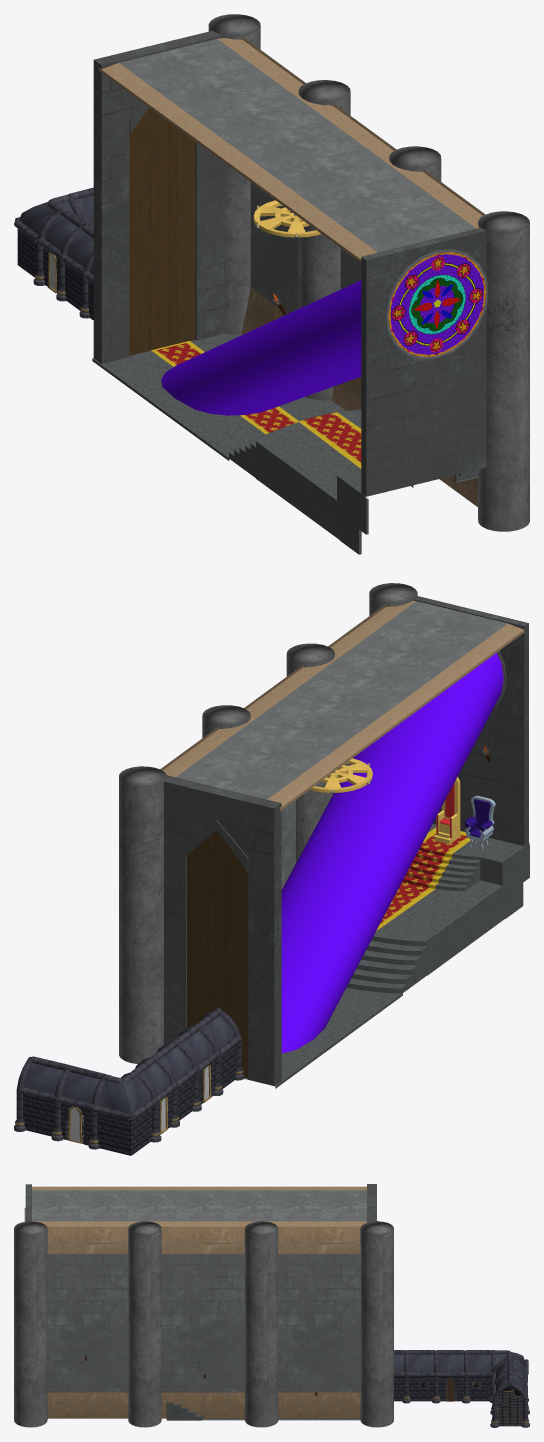
Rendered from castle_escenario.obj.
The picture shows the model from 3 angles, top to bottom: view 1: azimuth 30°, elevation 25°; view 2: azimuth 150°, elevation 25°; view 3: azimuth 270°, elevation 25°; orthographic projection. The views are drawn at different scales.
Visible parts, largest first — view 1: Door_Door_Texture_0_Malla, Stained_Window_Wall_Stained_Window_Wall_Texture_0_Malla, Ray_Ray_Texture_0_Malla, Piller_4_Piller_Texture_0_Malla, Stained_Window_Stained_Window_Texture_0_Malla, corridor_columns_Malla, Wall_2_Wall_Texture_0_Malla, Roof_2_Roof_Texture_0_Malla, Roof_4_Roof_Texture_0_Malla, Piller_1_Piller_Texture_0_Malla, Roof_6_Roof_Texture_0_Malla, Roof_5_Roof_Texture_0_Malla (+19 smaller); view 2: Ray_Ray_Texture_0_Malla, Door_Door_Texture_0_Malla, Piller_1_Piller_Texture_0_Malla, corridor_columns_Malla, Stained_Window_Wall_Stained_Window_Wall_Texture_0_Malla, Roof_4_Roof_Texture_0_Malla, Roof_2_Roof_Texture_0_Malla, Roof_6_Roof_Texture_0_Malla, Roof_1_Roof_Texture_0_Malla, Roof_5_Roof_Texture_0_Malla, Roof_3_Roof_Texture_0_Malla, Roof_7_Roof_Texture_0_Malla (+20 smaller); view 3: Wall_2_Wall_Texture_0_Malla, Wall_1_Wall_Texture_0_Malla, Wall_3_Wall_Texture_0_Malla, Piller_4_Piller_Texture_0_Malla, Piller_3_Piller_Texture_0_Malla, Piller_2_Piller_Texture_0_Malla, Piller_1_Piller_Texture_0_Malla, corridor_columns_Malla, Roof_4_Roof_Texture_0_Malla, Roof_2_Roof_Texture_0_Malla, Roof_6_Roof_Texture_0_Malla, Roof_1_Roof_Texture_0_Malla (+7 smaller).
Boxes of the visible parts, x1,y1,x2,y2 form: Door_Door_Texture_0_Malla: (93,31,224,363); Stained_Window_Wall_Stained_Window_Wall_Texture_0_Malla: (361,227,486,496); Ray_Ray_Texture_0_Malla: (161,280,361,415); Piller_4_Piller_Texture_0_Malla: (478,211,529,531); Stained_Window_Stained_Window_Texture_0_Malla: (385,249,487,359); corridor_columns_Malla: (14,187,93,318); Wall_2_Wall_Texture_0_Malla: (241,36,305,334); Roof_2_Roof_Texture_0_Malla: (287,172,460,235); Roof_4_Roof_Texture_0_Malla: (212,117,384,180); Piller_1_Piller_Texture_0_Malla: (208,14,260,334); Roof_6_Roof_Texture_0_Malla: (137,62,303,125); Roof_5_Roof_Texture_0_Malla: (174,91,347,153); Ray_Ray_Texture_0_Malla: (281,653,503,1053); Door_Door_Texture_0_Malla: (164,775,281,1085); Piller_1_Piller_Texture_0_Malla: (119,766,166,1063); corridor_columns_Malla: (14,1008,244,1149); Stained_Window_Wall_Stained_Window_Wall_Texture_0_Malla: (413,596,528,846); Roof_4_Roof_Texture_0_Malla: (258,675,419,733); Roof_2_Roof_Texture_0_Malla: (330,624,489,682); Roof_6_Roof_Texture_0_Malla: (188,727,349,785); Roof_1_Roof_Texture_0_Malla: (363,600,524,657); Roof_5_Roof_Texture_0_Malla: (234,700,384,759); Roof_3_Roof_Texture_0_Malla: (293,650,454,708); Roof_7_Roof_Texture_0_Malla: (162,752,314,810); Wall_2_Wall_Texture_0_Malla: (278,1226,360,1418); Wall_1_Wall_Texture_0_Malla: (161,1226,245,1418); Wall_3_Wall_Texture_0_Malla: (47,1226,128,1418); Piller_4_Piller_Texture_0_Malla: (14,1221,47,1427); Piller_3_Piller_Texture_0_Malla: (128,1221,161,1427); Piller_2_Piller_Texture_0_Malla: (244,1221,278,1427); Piller_1_Piller_Texture_0_Malla: (360,1221,393,1427); corridor_columns_Malla: (394,1350,529,1427); Roof_4_Roof_Texture_0_Malla: (176,1186,224,1226); Roof_2_Roof_Texture_0_Malla: (80,1186,127,1226); Roof_6_Roof_Texture_0_Malla: (273,1186,320,1226); Roof_1_Roof_Texture_0_Malla: (32,1186,79,1226).
Bounding box in the file's own units: 1.65 × 2.87 × 6.93.
